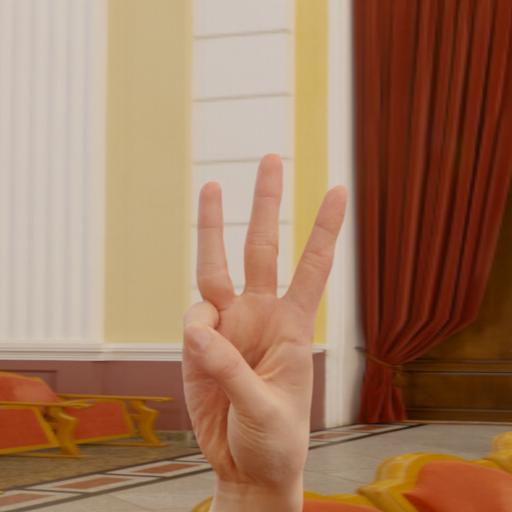W: (146, 133, 355, 511)
